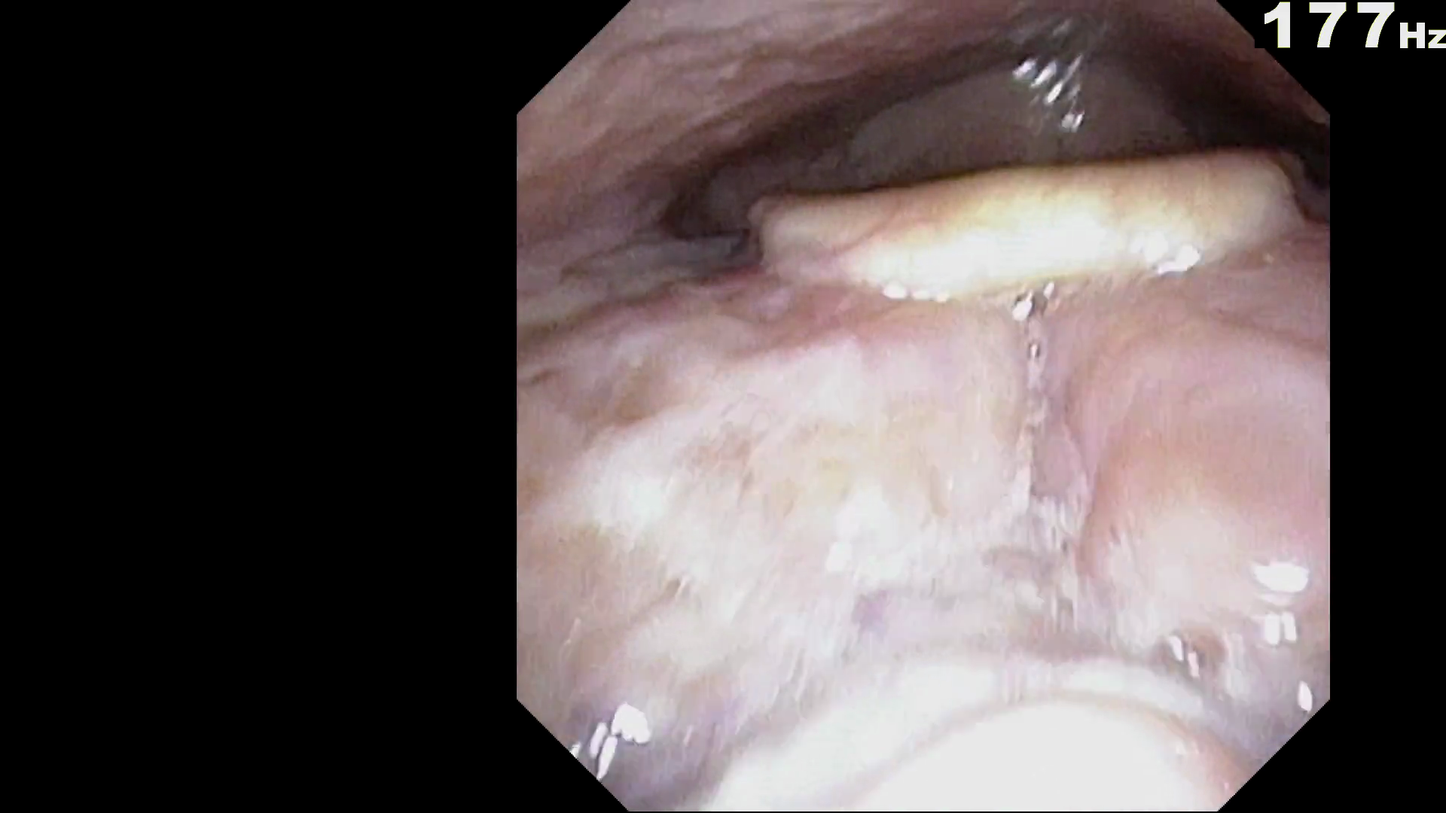epiglottis: (737, 196, 1312, 480)
trachea: (984, 146, 1130, 300)
